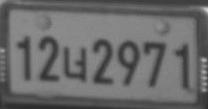1: (172, 43, 195, 90), (14, 36, 36, 81)
2: (91, 37, 115, 85), (38, 35, 60, 82)
7: (143, 41, 166, 88)
9: (117, 40, 140, 85)
너: (62, 45, 87, 83)
